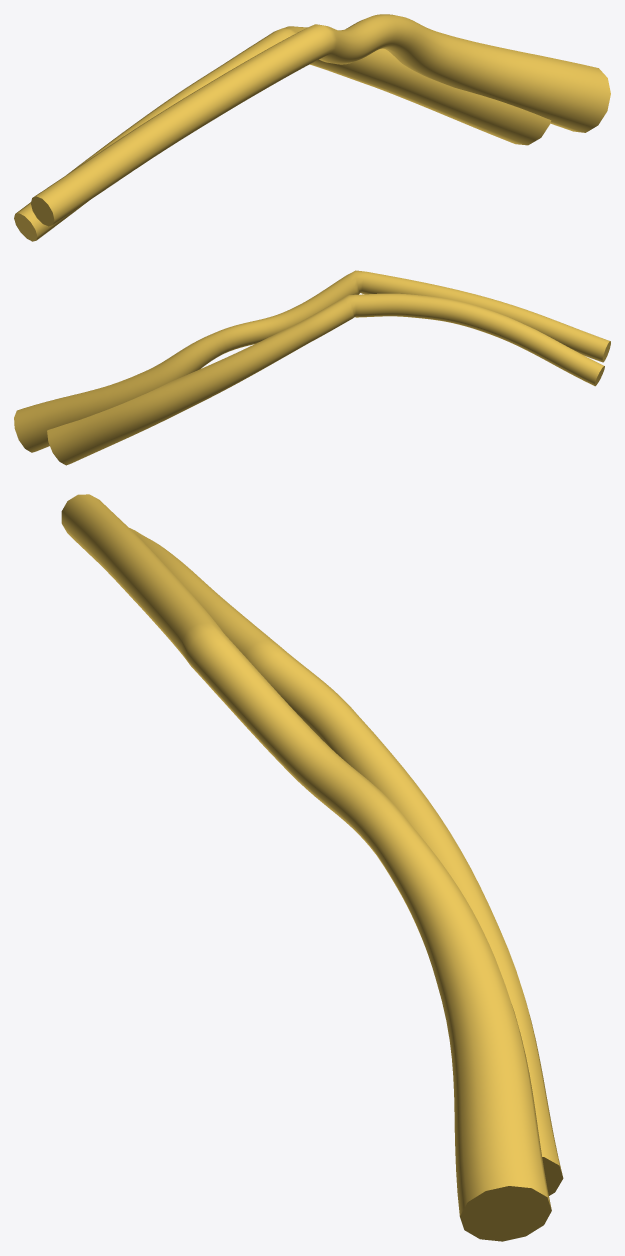
The model's file is Vestibulocochlear_nerve_VIII_right.glb.
3 renders of one model, top to bottom at view 1: azimuth 30°, elevation 25°; view 2: azimuth 150°, elevation 25°; view 3: azimuth 270°, elevation 25°, orthographic. The views are drawn at different scales.
Visible parts, largest first — view 1: Vestibulocochlear_nerve_(VIII).r_BezierCurve.304; view 2: Vestibulocochlear_nerve_(VIII).r_BezierCurve.304; view 3: Vestibulocochlear_nerve_(VIII).r_BezierCurve.304.
Boxes of the visible parts, <box> form: Vestibulocochlear_nerve_(VIII).r_BezierCurve.304: <box>14,14,610,241</box>; Vestibulocochlear_nerve_(VIII).r_BezierCurve.304: <box>14,270,610,465</box>; Vestibulocochlear_nerve_(VIII).r_BezierCurve.304: <box>61,494,563,1241</box>.
Size of the model in its own units: 0.0243 by 0.00887 by 0.0108.
